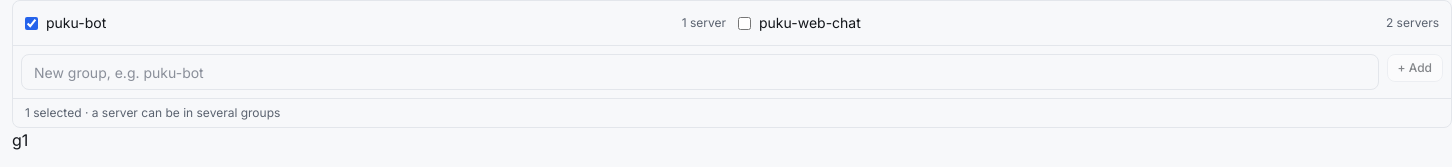
Test: group picker › selects several groups at once
This screenshot has width=1452, height=167.
Click the checkbox labelled "puku-web-chat 2 servers". click: (744, 23)
box: [738,16,751,30]
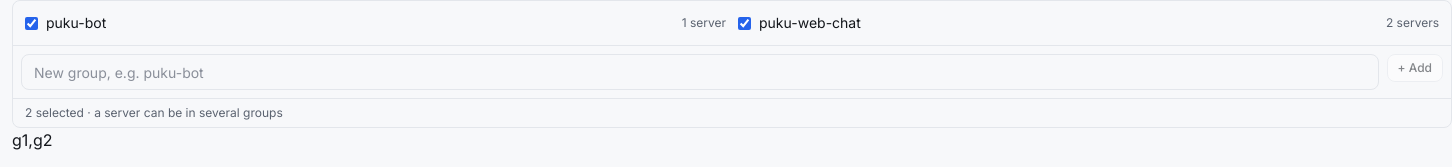
Check: the text with test id "value" reads "g1,g2", box [12,130,52,150]
Check: the text "2 selected · a server can be in several groups" is shown, box [13,98,1451,127]
Click the checkbox labelled "puku-bot 1 server". click: (32, 23)
box: [25,16,38,30]
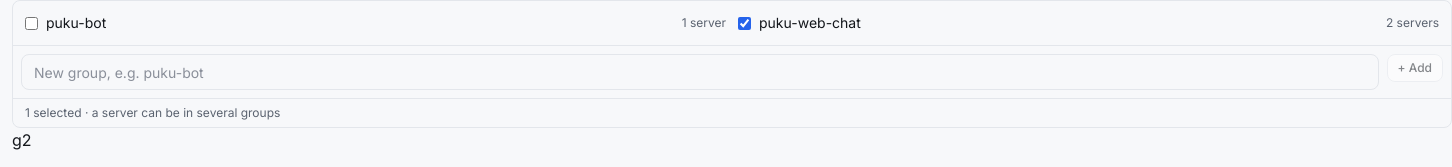
Check: the text with test id "value" reads "g2", box [12,130,32,150]
